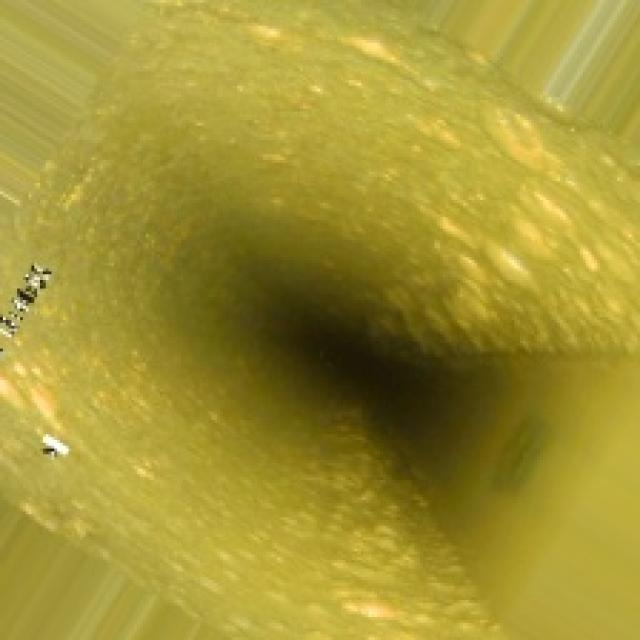encrustation: (83, 83, 608, 531)
